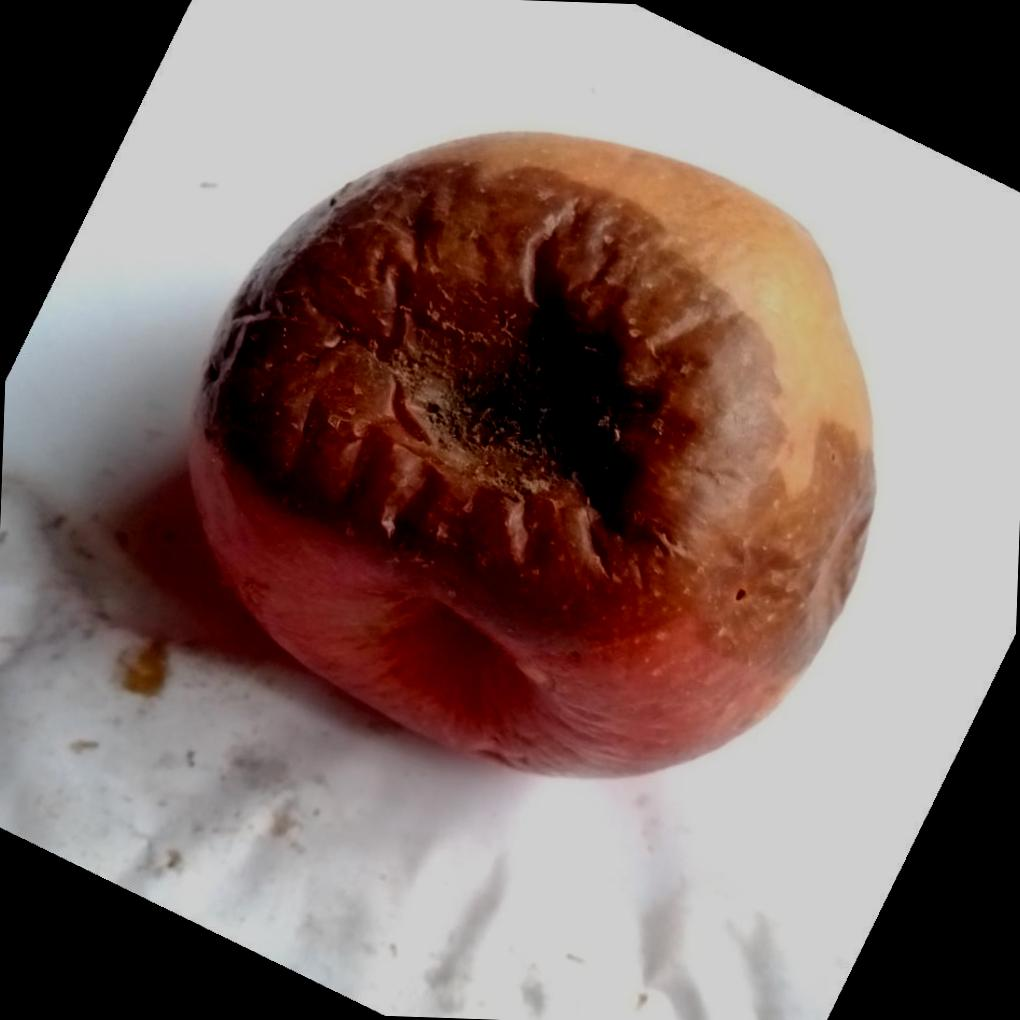FreshOrange: (179, 127, 876, 782)
